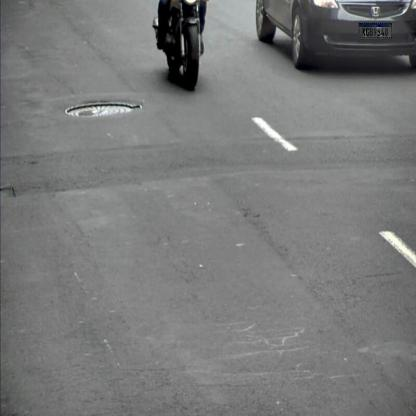PlacaM: (359, 23, 392, 38)
